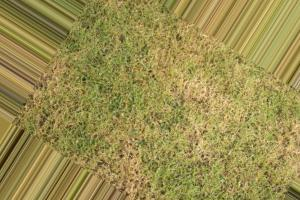patch: (176, 81, 224, 114), (150, 53, 204, 78), (178, 118, 224, 142), (151, 31, 190, 51), (277, 129, 299, 157), (119, 137, 140, 166), (226, 98, 241, 132), (123, 170, 144, 190), (279, 159, 300, 179), (97, 155, 117, 174), (97, 127, 115, 148), (118, 117, 139, 134), (50, 62, 64, 85), (50, 107, 67, 125), (38, 89, 64, 100), (160, 80, 175, 94), (37, 120, 49, 135), (262, 148, 273, 164), (196, 39, 211, 50)
